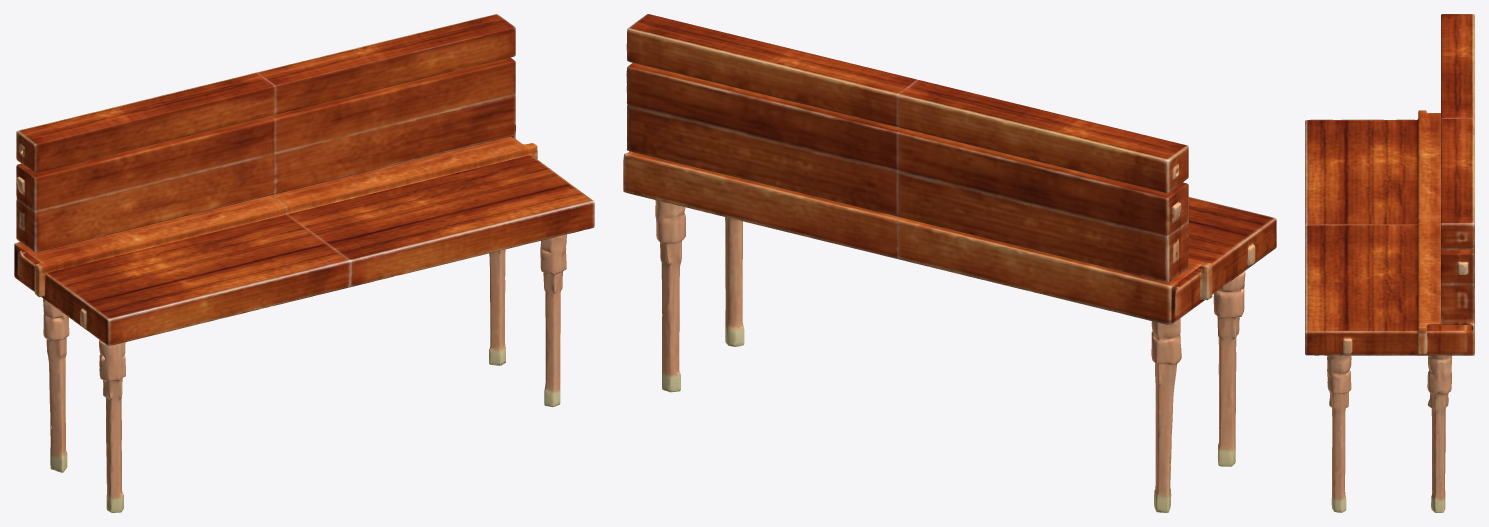
File: wooden_3.glb
3 views of the same model, side by side, from view 1: azimuth 30°, elevation 25°; view 2: azimuth 150°, elevation 25°; view 3: azimuth 270°, elevation 25° (orthographic). The views are drawn at different scales.
Parts seen in each view (by area): view 1: geometry_0; view 2: geometry_0; view 3: geometry_0.
Part boxes in pixels (x1,y1,x2,y2): geometry_0: [14, 14, 594, 512]; geometry_0: [623, 14, 1276, 512]; geometry_0: [1305, 14, 1474, 512].
Bounding box in the file's own units: 1 × 0.635 × 0.3308.
1 material, 1 textured.
